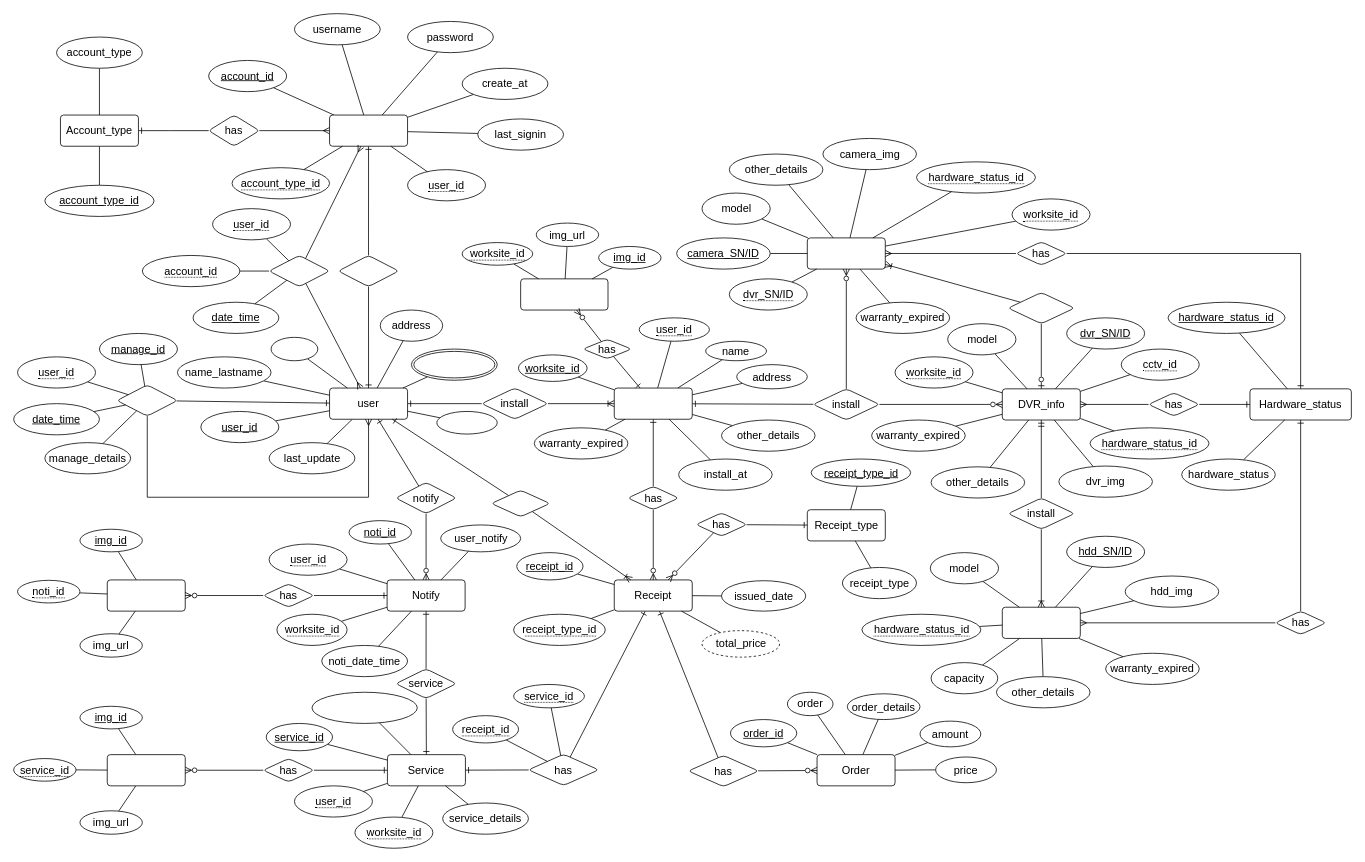
This 1365x862 diagram has some shape labels left out. The centre of each missing label's shape, as x and y in pixels:
Account: [368,130]
Camera_info: [846,253]
email: [294,349]
Harddisk_info: [1041,622]
issued: [520,503]
login: [299,271]
manage: [146,400]
Notify_image: [145,595]
phone_number: [454,364]
register: [368,271]
service_date_time: [364,707]
Service_image: [145,770]
user_img: [466,422]
view_on: [1040,308]
Work_site: [652,403]
Worksite_image: [564,294]
